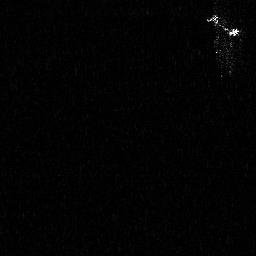ship: (205, 12, 242, 40)
